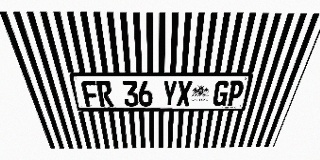3: (122, 81, 139, 106)
6: (138, 81, 153, 106)
F: (80, 81, 100, 107)
G: (212, 81, 230, 106)
P: (226, 80, 245, 106)
R: (96, 81, 114, 107)
X: (176, 81, 192, 106)
Y: (162, 81, 177, 106)
